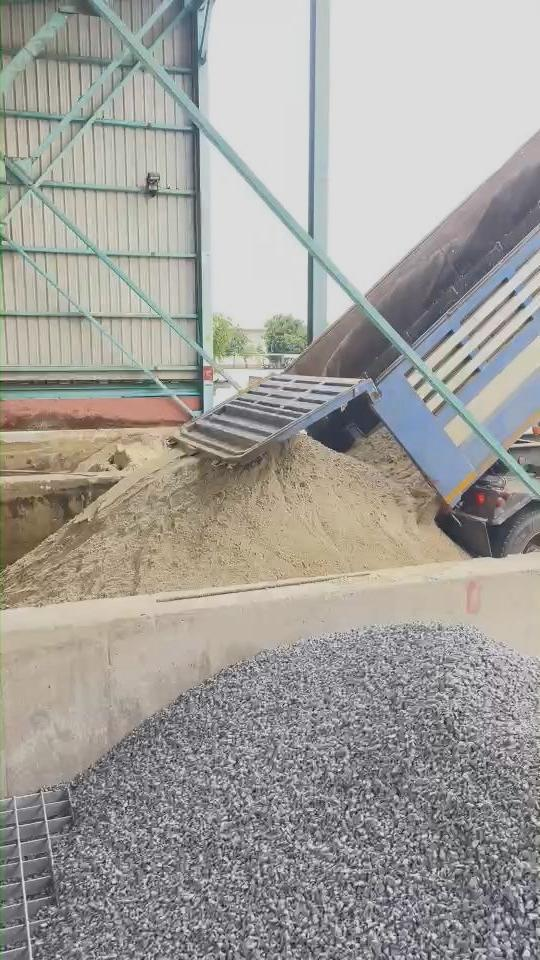gravel: (36, 625, 540, 959)
sand: (4, 437, 462, 606), (349, 428, 440, 521), (78, 435, 165, 472)
